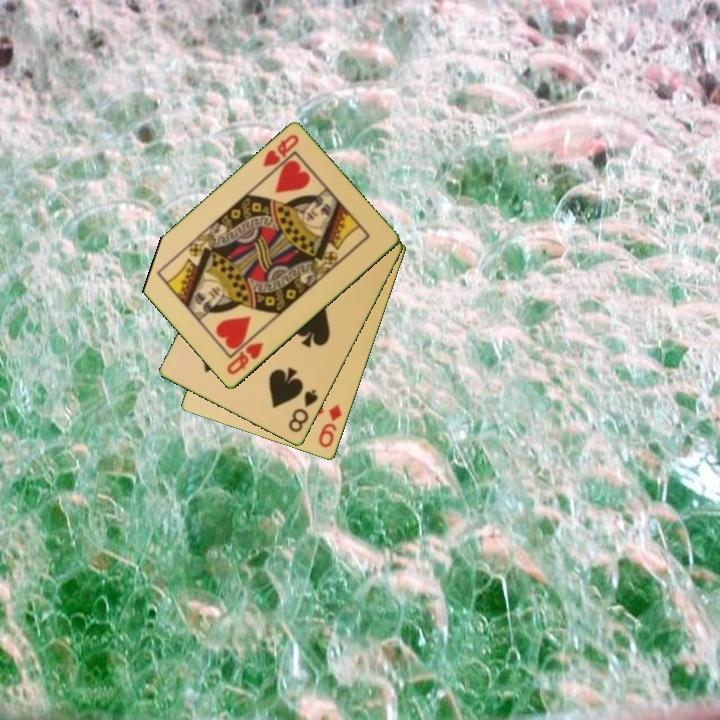8s: (285, 386, 321, 436)
9d: (315, 401, 345, 451)
Qh: (223, 339, 267, 378), (259, 131, 302, 170)
